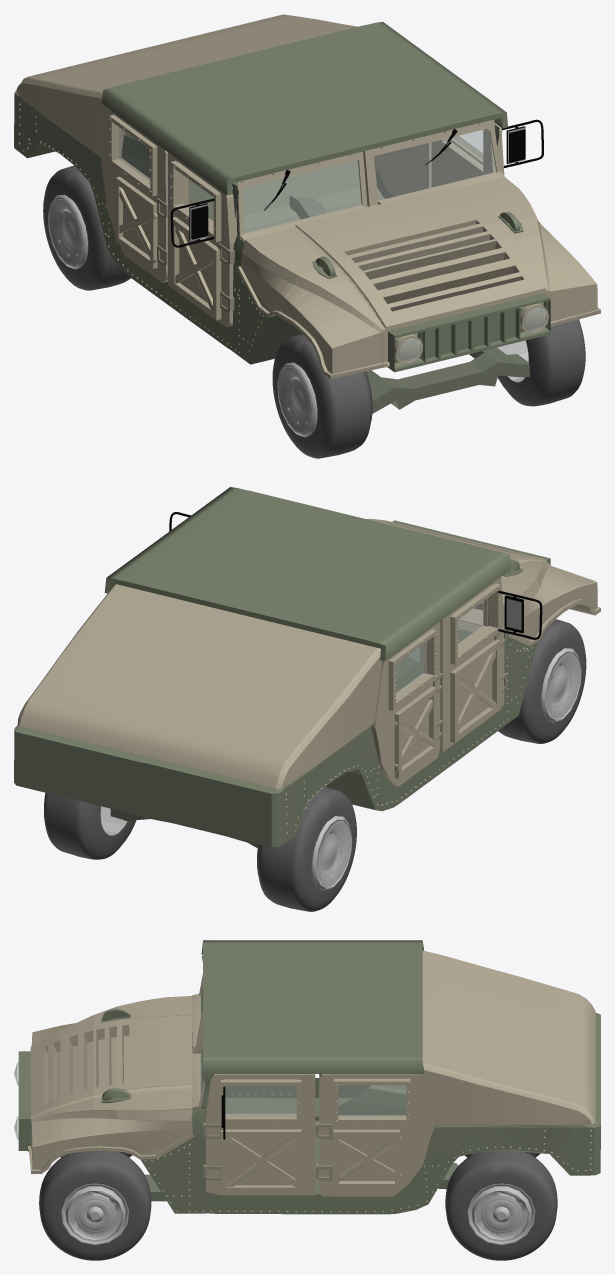
File: toycar_02.fbx
3 renders of one model, top to bottom at view 1: azimuth 30°, elevation 25°; view 2: azimuth 150°, elevation 25°; view 3: azimuth 270°, elevation 25°, orthographic. The views are drawn at different scales.
Parts seen in each view (by area): view 1: toycar_02; view 2: toycar_02; view 3: toycar_02.
Part boxes in pixels (left/top/right/bottom): toycar_02: left=14, top=14, right=600, bottom=458; toycar_02: left=14, top=487, right=600, bottom=911; toycar_02: left=14, top=940, right=600, bottom=1260.
Size of the model in its own units: 30.64 by 18.49 by 47.16.
